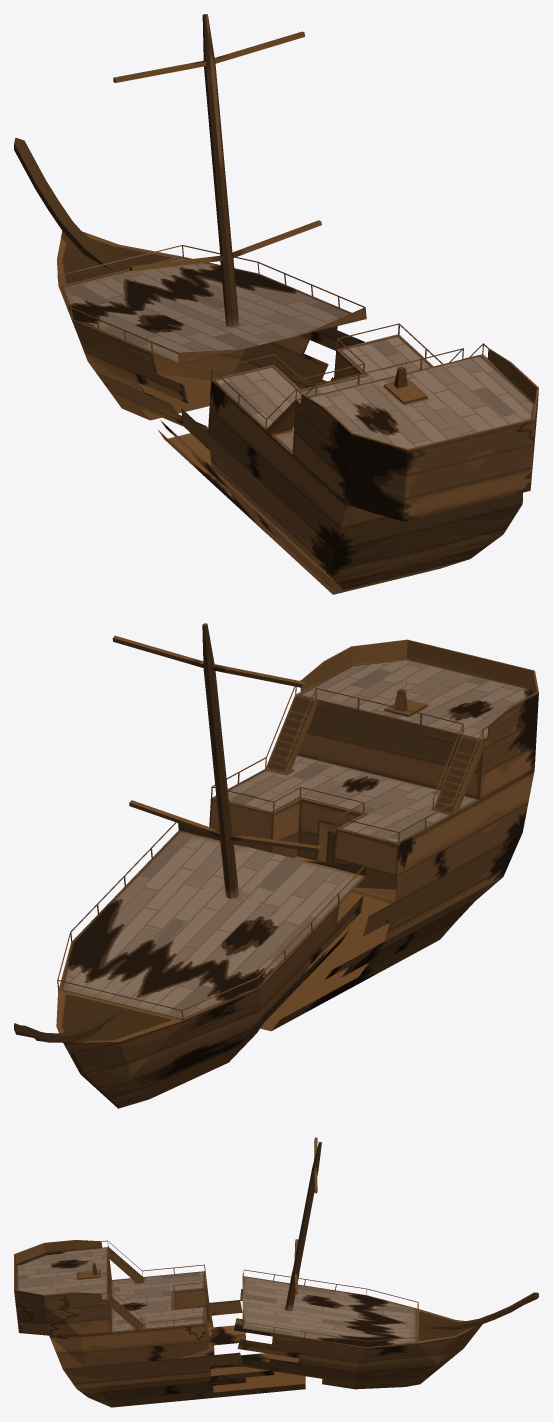
Rendered from BrokenBoat.FBX.
3 renders of one model, top to bottom at view 1: azimuth 30°, elevation 25°; view 2: azimuth 150°, elevation 25°; view 3: azimuth 270°, elevation 25°, orthographic. The views are drawn at different scales.
Parts seen in each view (by area): view 1: Object002, Object001; view 2: Object002, Object001; view 3: Object002, Object001.
Boxes of the visible parts, x1=… form: Object002: x1=158, y1=323, x2=538, y2=594; Object001: x1=14, y1=14, x2=366, y2=432; Object002: x1=209, y1=639, x2=538, y2=1031; Object001: x1=14, y1=623, x2=366, y2=1108; Object002: x1=14, y1=1240, x2=305, y2=1407; Object001: x1=233, y1=1137, x2=538, y2=1389.
Size of the model in its own units: 40.92 by 89.54 by 170.
